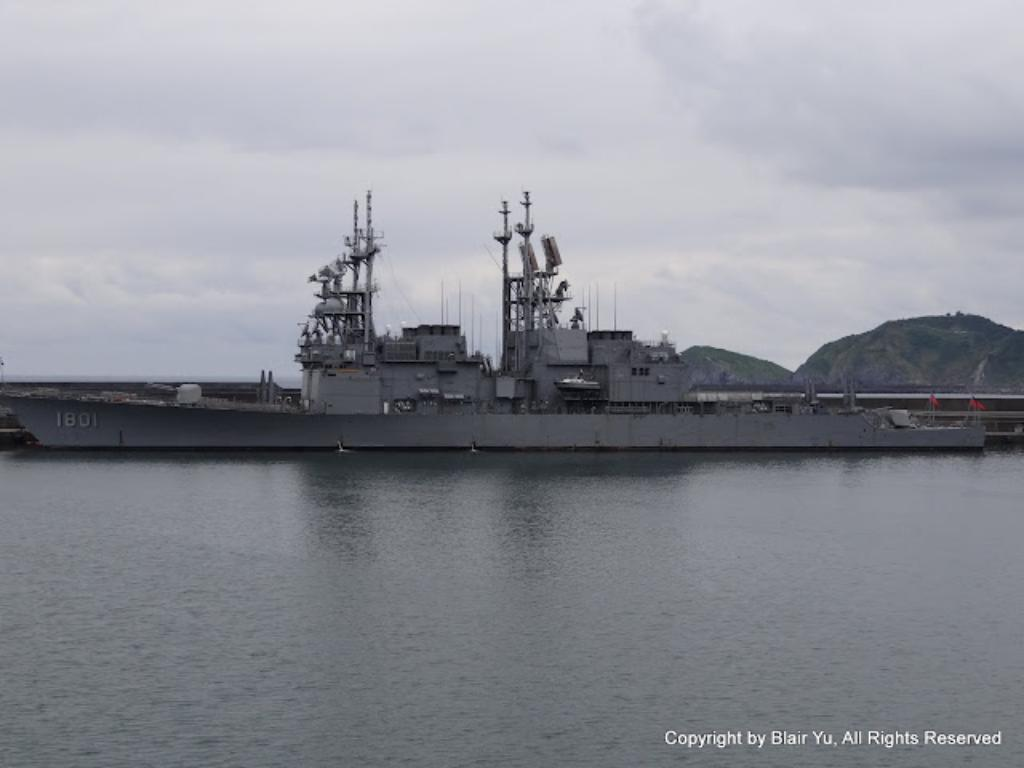Warship: (5, 190, 987, 457)
